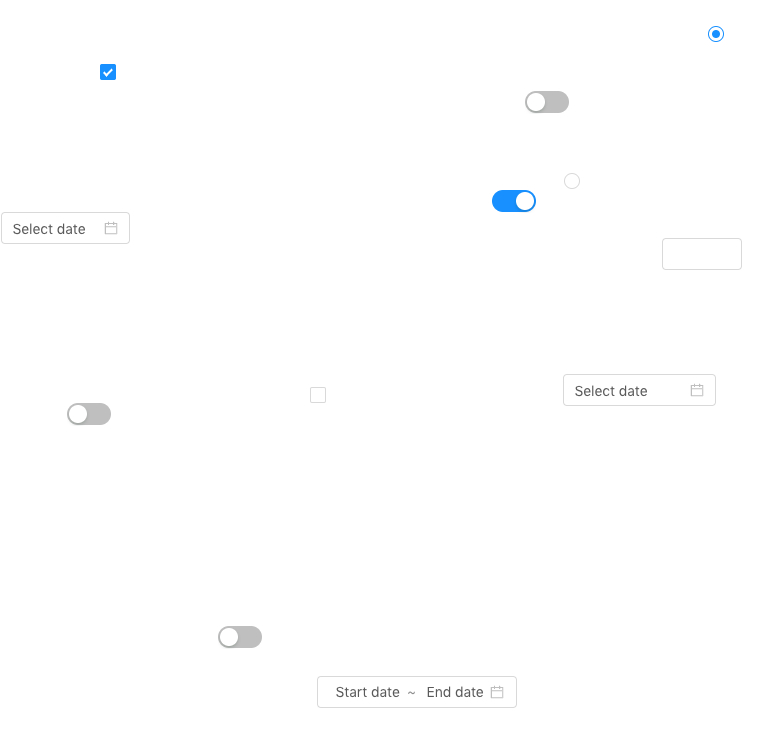Checkbox: (100, 61, 116, 82), (310, 384, 326, 405)
DatePicker: (563, 374, 716, 406), (1, 212, 130, 244)
Input: (662, 238, 742, 270)
Radio: (708, 23, 724, 43), (564, 170, 580, 190)
RangePicker: (317, 676, 517, 708)
Switch: (492, 189, 536, 213), (525, 90, 569, 114), (67, 402, 111, 426), (218, 625, 262, 649)
